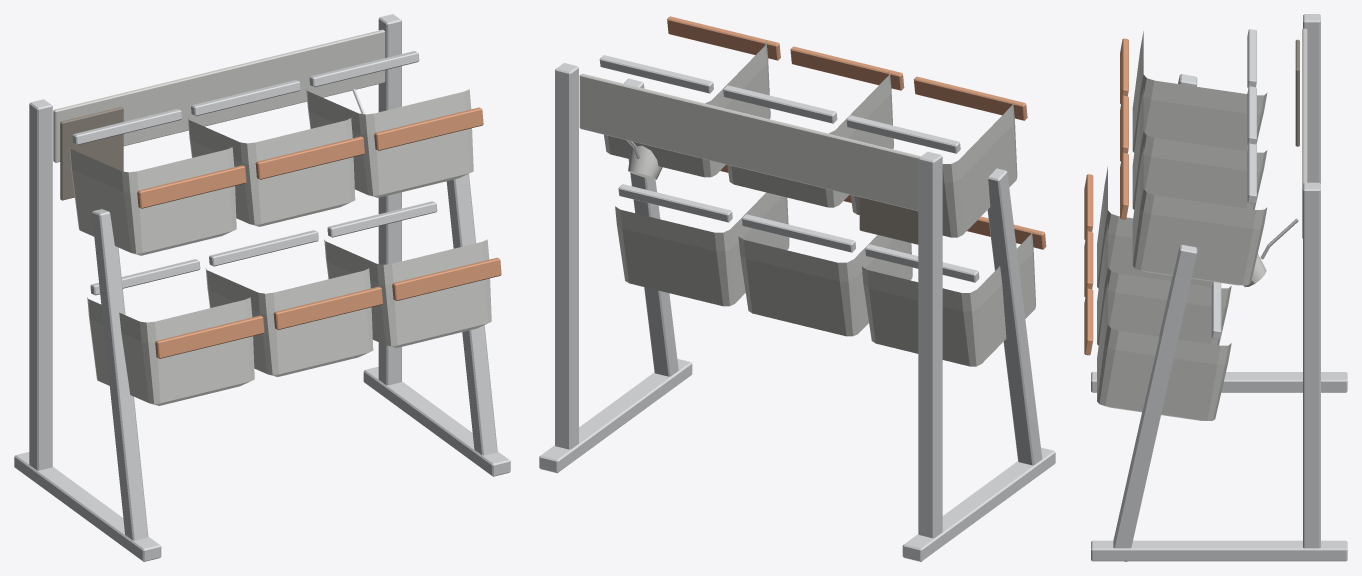
Rendered from garden-centre-and-florist-bulb-bin-display-cf2c1860__17729.glb.
3 views of the same model, side by side, from view 1: azimuth 30°, elevation 25°; view 2: azimuth 150°, elevation 25°; view 3: azimuth 270°, elevation 25° (orthographic). The views are drawn at different scales.
Parts seen in each view (by area): view 1: bulb-bin-display; view 2: bulb-bin-display; view 3: bulb-bin-display.
Boxes of the visible parts, x1,y1,x2,y2 form: bulb-bin-display: (14,14,510,561); bulb-bin-display: (539,16,1055,561); bulb-bin-display: (1084,14,1347,561).
Bounding box in the file's own units: 1.18 × 1.15 × 0.7384.
